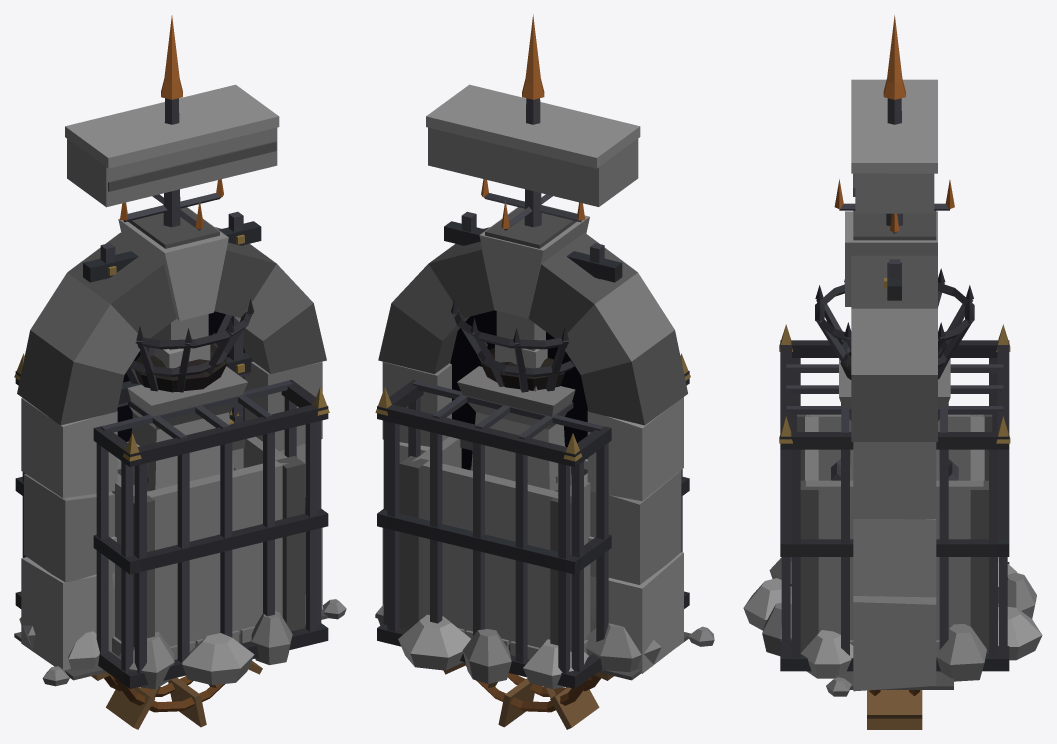
Rendered from trials.glb.
3 renders of one model, left to right at view 1: azimuth 30°, elevation 25°; view 2: azimuth 150°, elevation 25°; view 3: azimuth 270°, elevation 25°, orthographic.
Visible parts, largest first — view 1: trial_mouth, trial_cage, trial_tank, trial_portcullis_lintel, trial_beacon, trial_great_fire, trial_wheel, trial_portcullis_post, trial_portcullis_bars, trial_rod, trial_spout, trial_tile_I; view 2: trial_mouth, trial_cage, trial_tank, trial_portcullis_lintel, trial_beacon, trial_great_fire, trial_portcullis_post, trial_wheel, trial_rod, trial_portcullis_bars; view 3: trial_mouth, trial_cage, trial_tank, trial_portcullis_lintel, trial_great_fire, trial_beacon, trial_wheel, trial_rod, trial_portcullis_post, trial_portcullis_bars.
Part boxes in pixels (<box>): trial_mouth: <box>14,207,346,686</box>; trial_cage: <box>14,353,329,688</box>; trial_tank: <box>112,436,305,646</box>; trial_portcullis_lintel: <box>65,84,279,207</box>; trial_beacon: <box>126,299,254,646</box>; trial_great_fire: <box>19,595,305,689</box>; trial_wheel: <box>91,661,262,729</box>; trial_portcullis_post: <box>128,205,219,368</box>; trial_portcullis_bars: <box>83,211,261,421</box>; trial_rod: <box>120,15,223,230</box>; trial_spout: <box>108,536,116,651</box>; trial_tile_I: <box>111,626,254,659</box>; trial_mouth: <box>375,205,714,680</box>; trial_cage: <box>375,353,690,688</box>; trial_tank: <box>399,436,590,651</box>; trial_portcullis_lintel: <box>426,84,640,206</box>; trial_beacon: <box>451,299,575,654</box>; trial_great_fire: <box>376,604,661,689</box>; trial_portcullis_post: <box>485,205,576,391</box>; trial_wheel: <box>443,662,613,729</box>; trial_rod: <box>481,14,585,230</box>; trial_portcullis_bars: <box>444,211,622,282</box>; trial_mouth: <box>826,211,953,696</box>; trial_cage: <box>779,324,1010,671</box>; trial_tank: <box>797,414,992,653</box>; trial_portcullis_lintel: <box>851,79,937,213</box>; trial_great_fire: <box>743,557,1042,681</box>; trial_beacon: <box>815,268,974,480</box>; trial_wheel: <box>867,690,922,729</box>; trial_rod: <box>834,15,954,233</box>; trial_portcullis_post: <box>853,210,936,240</box>; trial_portcullis_bars: <box>884,259,901,300</box>.
Size of the model in its own units: 1.75 by 3.95 by 1.52.
